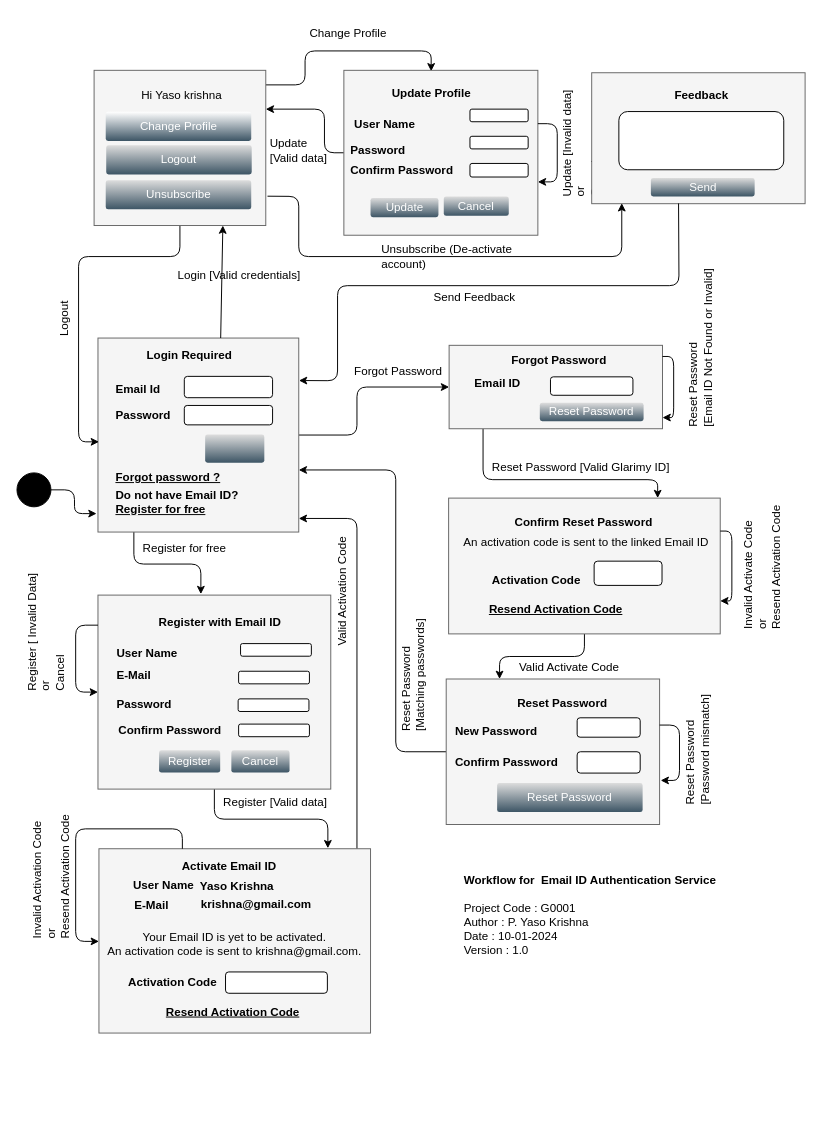
Some shapes in this 823 by 1142 pixel diagram are drawn without their labels. Each missing label, with the box of its shape:
Login: (204, 434, 264, 463)
START: (16, 472, 51, 507)
